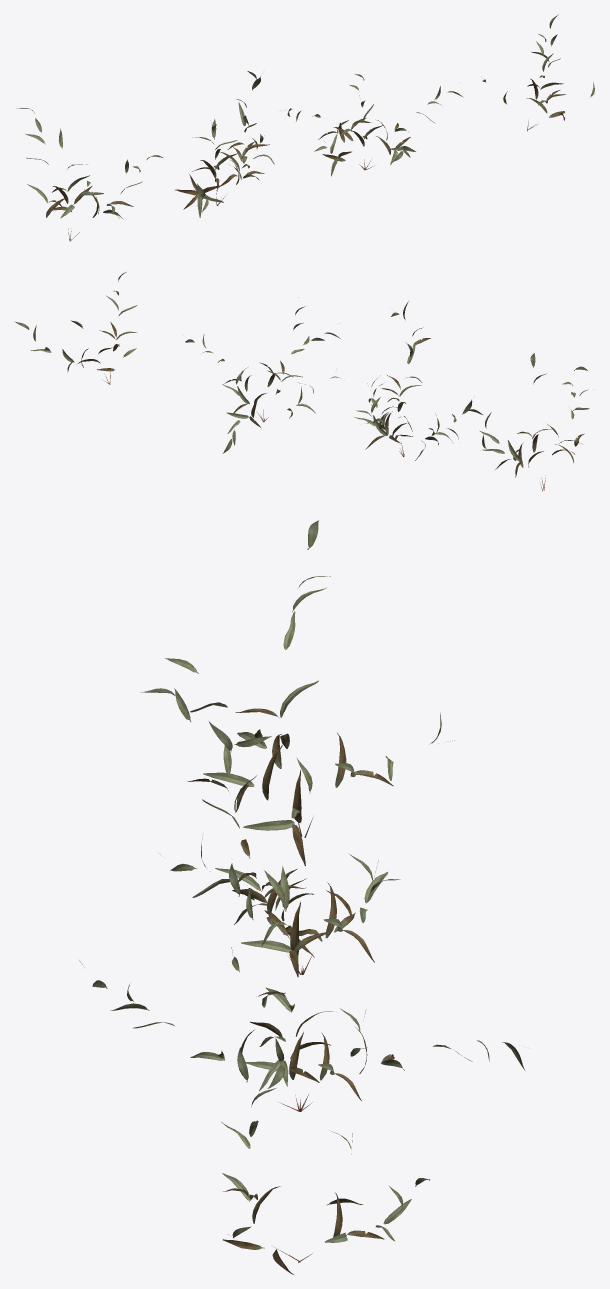
The model's file is shrub_02_lo.glb.
3 views of the same model, one above another, from view 1: azimuth 30°, elevation 25°; view 2: azimuth 150°, elevation 25°; view 3: azimuth 270°, elevation 25° (orthographic). The views are drawn at different scales.
Parts seen in each view (by area): view 1: shrub_02_b, shrub_02_c, shrub_02_a, shrub_02_d; view 2: shrub_02_b, shrub_02_c, shrub_02_a, shrub_02_d; view 3: shrub_02_b, shrub_02_a, shrub_02_c, shrub_02_d.
Boxes of the visible parts, x1,y1,x2,y2 form: shrub_02_b: [174, 71, 274, 217]; shrub_02_c: [287, 74, 463, 176]; shrub_02_a: [16, 108, 163, 241]; shrub_02_d: [481, 14, 594, 131]; shrub_02_b: [354, 301, 482, 460]; shrub_02_c: [185, 297, 341, 453]; shrub_02_a: [479, 353, 589, 491]; shrub_02_d: [14, 272, 137, 384]; shrub_02_b: [160, 721, 400, 977]; shrub_02_a: [140, 520, 454, 865]; shrub_02_c: [79, 863, 524, 1111]; shrub_02_d: [221, 1047, 429, 1274].
Bounding box in the file's own units: 6.05 × 1.44 × 2.17.
Materials: 1 (1 with a texture image).
